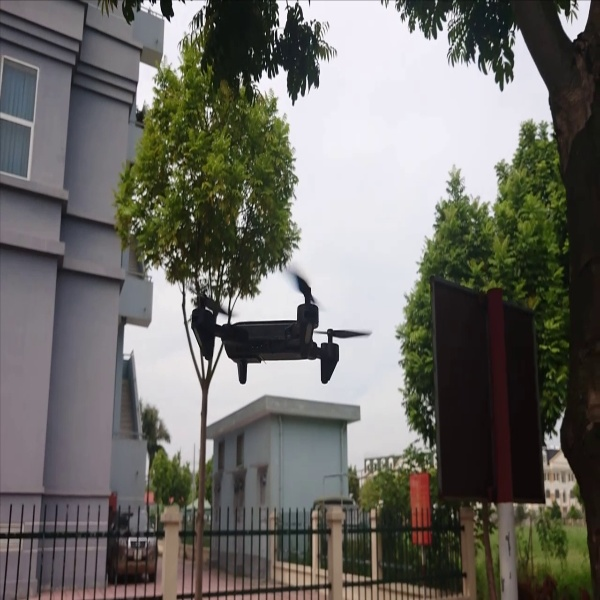drone: (171, 269, 382, 387)
